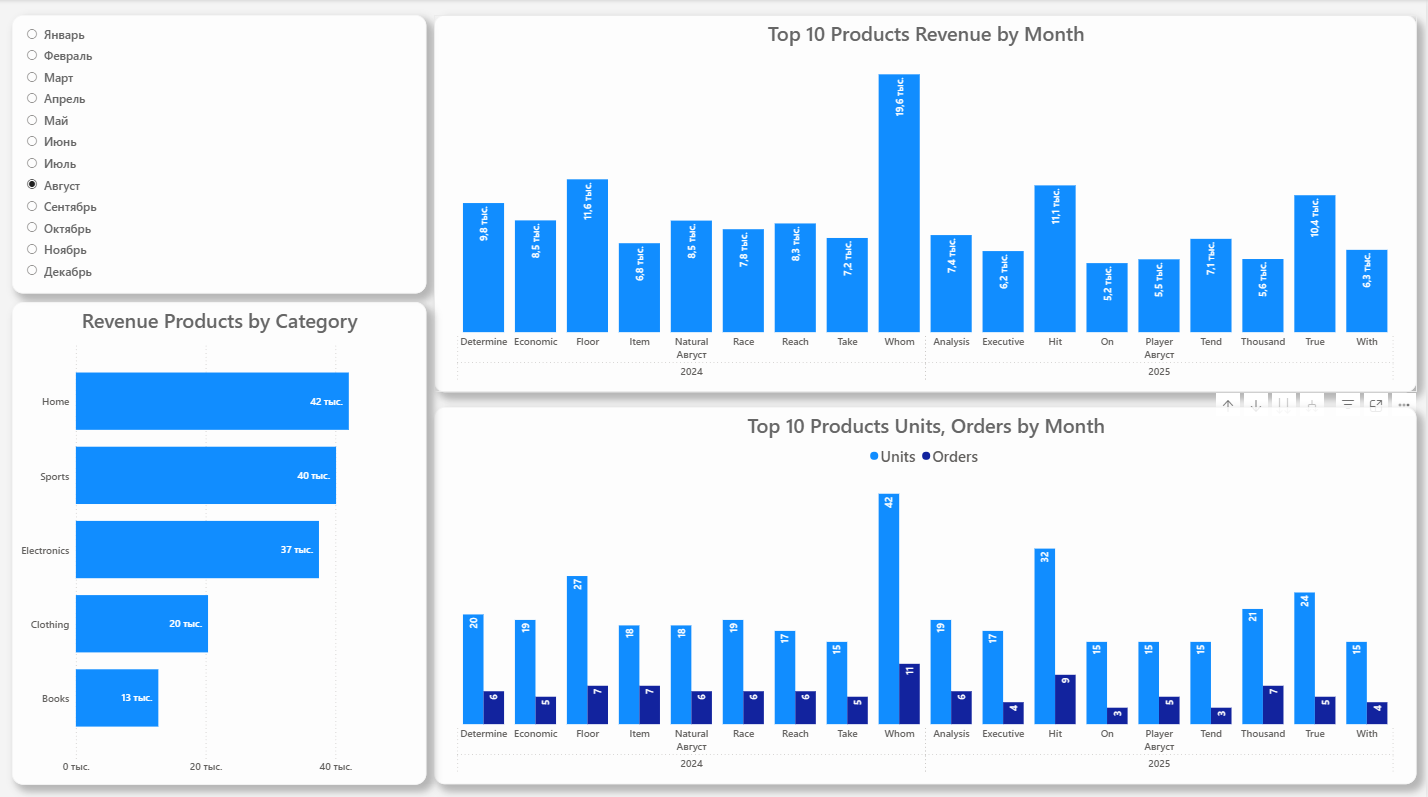

What the dashboard file says about the page in this screenshot:
{"tool":"powerbi","page":{"name":"Top Products","canvas":[1920,1080],"ordinal":3},"visuals":[{"type":"slicer","fields":{"Values":["dim_month.month_start.Изменение.Иерархия дат.Месяц"]},"box":[16.5,21,557.6,374.7],"z":0},{"type":"clusteredColumnChart","title":"Top 10 Products Revenue by Month","fields":{"Category":["dim_month.month_start.Изменение.Иерархия дат.Год","dim_month.month_start.Изменение.Иерархия дат.Месяц","mart top_products.product_name"],"Y":["Sum(mart top_products.revenue)"]},"box":[584.5,21,1323.5,508.1],"z":1000},{"type":"clusteredColumnChart","title":"Top 10 Products Units, Orders by Month","fields":{"Category":["dim_month.month_start.Изменение.Иерархия дат.Год","dim_month.month_start.Изменение.Иерархия дат.Месяц","mart top_products.product_name"],"Y":["Sum(mart top_products.units)","Sum(mart top_products.orders_count)"]},"box":[584.5,550.1,1323.5,508.1],"z":2000},{"type":"barChart","title":"Revenue Products by Category","fields":{"Category":["mart top_products.category"],"Y":["Sum(mart top_products.revenue)"]},"box":[16.5,407.7,557.6,650.5],"z":3000}]}

Visuals, with their boxes in screenshot pixels (x1, y1, x2, y2), scaled from the page's 1920x1080 canvas onto the 1428x797 screenshot:
slicer - dim_month.month_start.Изменение.Иерархия дат.Месяц: rect(12, 15, 427, 292)
"Top 10 Products Revenue by Month" clusteredColumnChart: rect(435, 15, 1419, 390)
"Top 10 Products Units, Orders by Month" clusteredColumnChart: rect(435, 406, 1419, 781)
"Revenue Products by Category" barChart: rect(12, 301, 427, 781)
